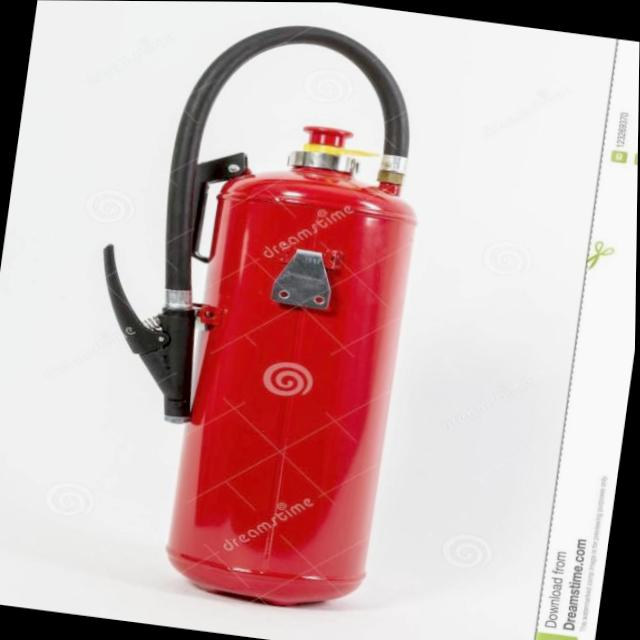FireExtinguisher: (49, 0, 448, 624)
